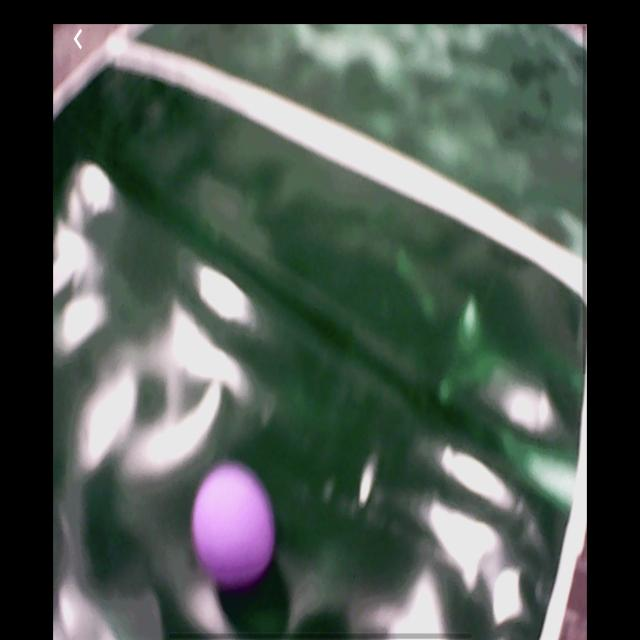ball: (192, 464, 275, 585)
